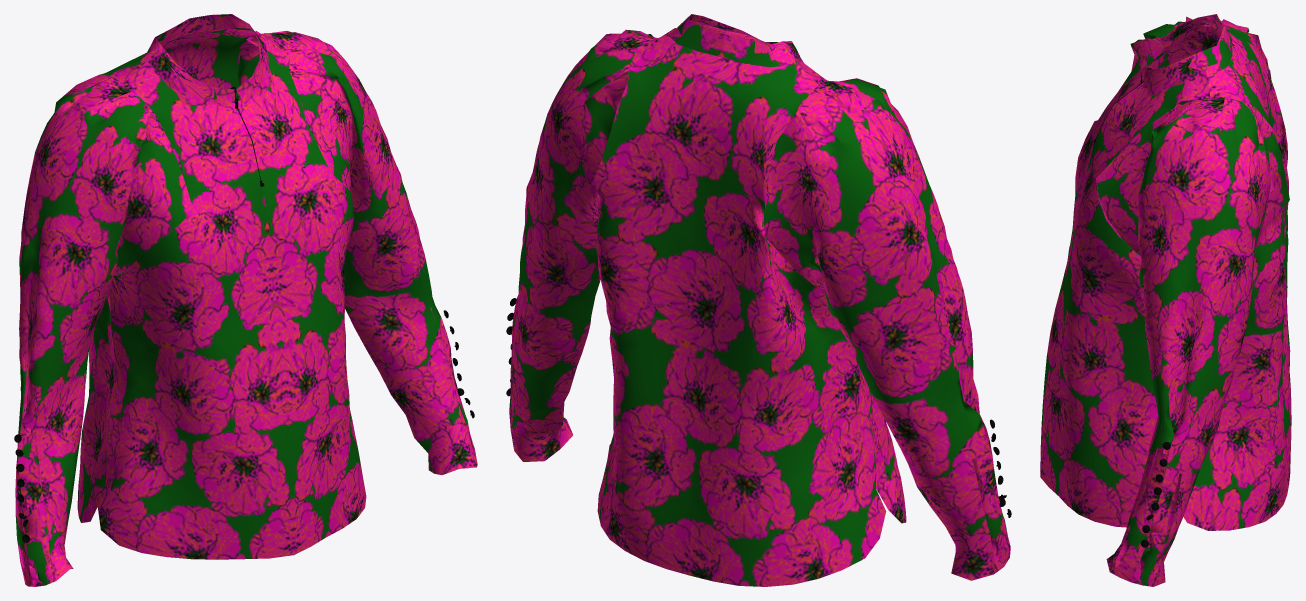
Rendered from floralaliceblouselowpoly.fbx.
The picture shows the model from 3 angles, left to right: view 1: azimuth 30°, elevation 25°; view 2: azimuth 150°, elevation 25°; view 3: azimuth 270°, elevation 25°; orthographic projection. The views are drawn at different scales.
Visible parts, largest first — view 1: LM-FLORAL ALICE BLOUSE-96; view 2: LM-FLORAL ALICE BLOUSE-96; view 3: LM-FLORAL ALICE BLOUSE-96.
Boxes of the visible parts, bbox=[...] form: LM-FLORAL ALICE BLOUSE-96: bbox=[14, 14, 477, 586]; LM-FLORAL ALICE BLOUSE-96: bbox=[506, 14, 1011, 586]; LM-FLORAL ALICE BLOUSE-96: bbox=[1040, 14, 1291, 586].
Bounding box in the file's own units: 62.97 × 63.81 × 31.22.
